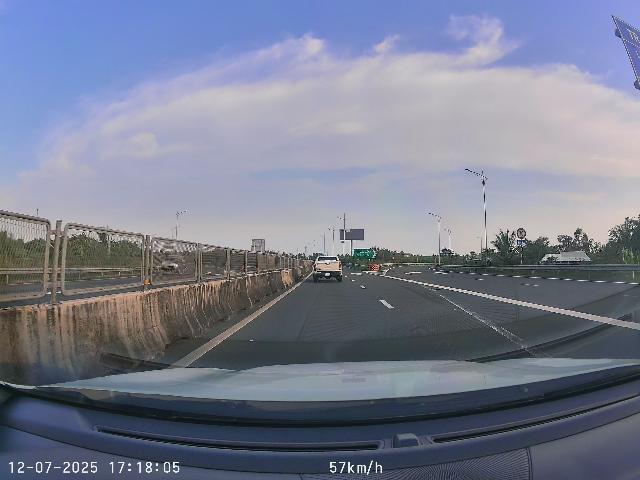127-toc-do-toi-da-70: (517, 228, 526, 239)
